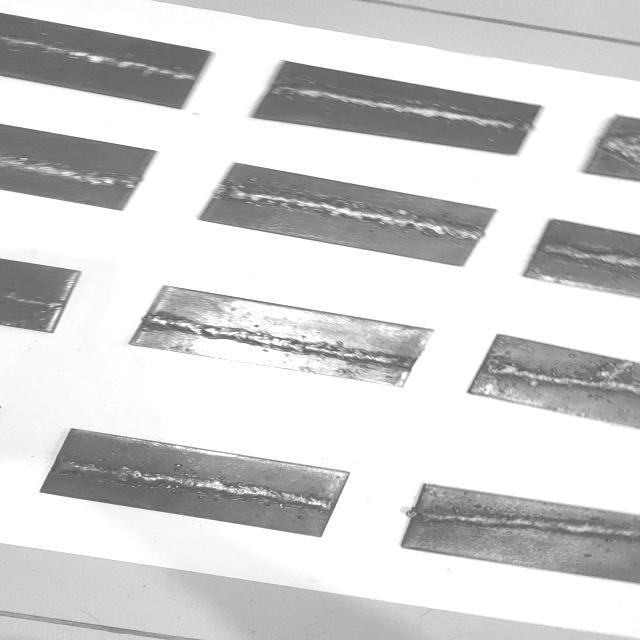Defect: (590, 358, 637, 390), (607, 134, 640, 164)
Welding Line: (217, 181, 487, 244), (141, 312, 415, 366), (55, 458, 338, 510), (269, 80, 532, 132), (0, 35, 201, 83), (415, 507, 640, 541), (0, 153, 142, 190), (490, 362, 640, 396), (543, 242, 640, 270), (0, 290, 71, 313)
Workpiece: (32, 425, 356, 541), (188, 156, 506, 270), (119, 282, 442, 391), (243, 52, 555, 161), (390, 478, 640, 587), (0, 10, 221, 111), (460, 329, 640, 430), (0, 121, 165, 215), (514, 215, 640, 305), (0, 257, 89, 337)
